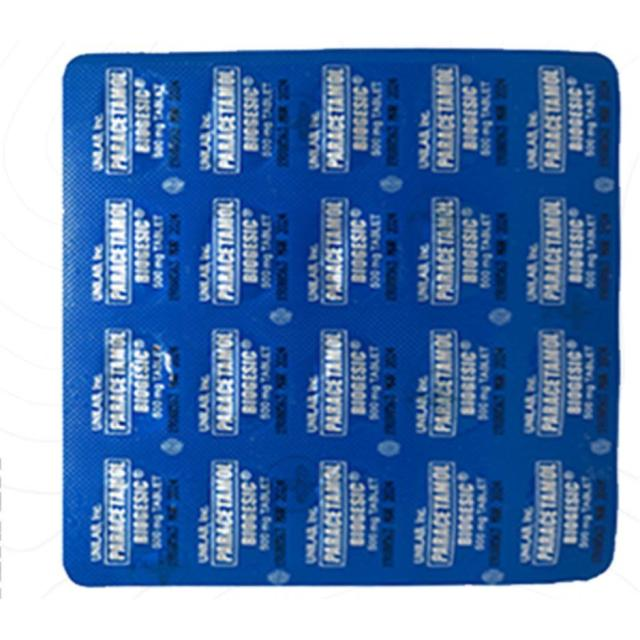blister: (59, 45, 624, 588)
